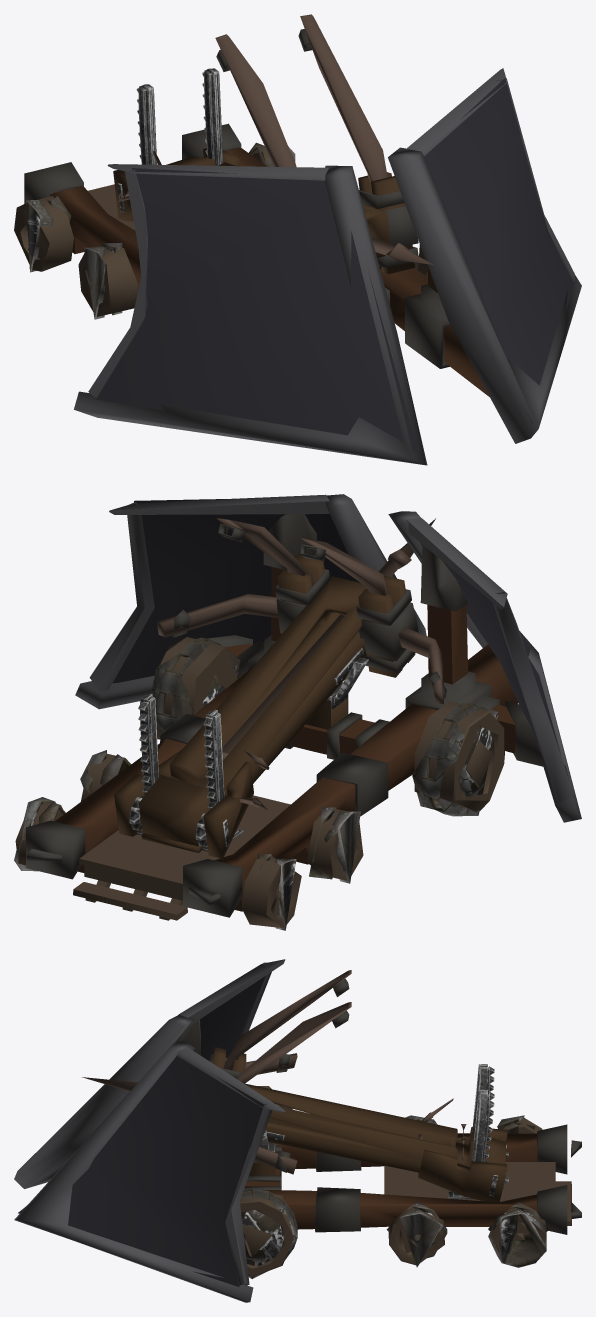
The model's file is ballista-b.lod0.glb.
3 renders of one model, top to bottom at view 1: azimuth 30°, elevation 25°; view 2: azimuth 150°, elevation 25°; view 3: azimuth 270°, elevation 25°, orthographic. The views are drawn at different scales.
Visible parts, largest first — view 1: Metalic_shield_frame_Metalic_Shield_0, Ballista_metalic_parts.001_Metalic Wheels_0; view 2: Metalic_shield_frame_Metalic_Shield_0, Ballista_metalic_parts.001_Metalic Wheels_0; view 3: Metalic_shield_frame_Metalic_Shield_0, Ballista_metalic_parts.001_Metalic Wheels_0.
Part boxes in pixels (bbox=[...]): Metalic_shield_frame_Metalic_Shield_0: bbox=[14, 14, 581, 465]; Ballista_metalic_parts.001_Metalic Wheels_0: bbox=[26, 68, 418, 319]; Metalic_shield_frame_Metalic_Shield_0: bbox=[15, 494, 581, 928]; Ballista_metalic_parts.001_Metalic Wheels_0: bbox=[14, 637, 498, 930]; Metalic_shield_frame_Metalic_Shield_0: bbox=[14, 959, 581, 1302]; Ballista_metalic_parts.001_Metalic Wheels_0: bbox=[240, 1064, 548, 1278].
Bounding box in the file's own units: 3.42 × 1.9 × 4.2.
Materials: 2 (1 with a texture image).
